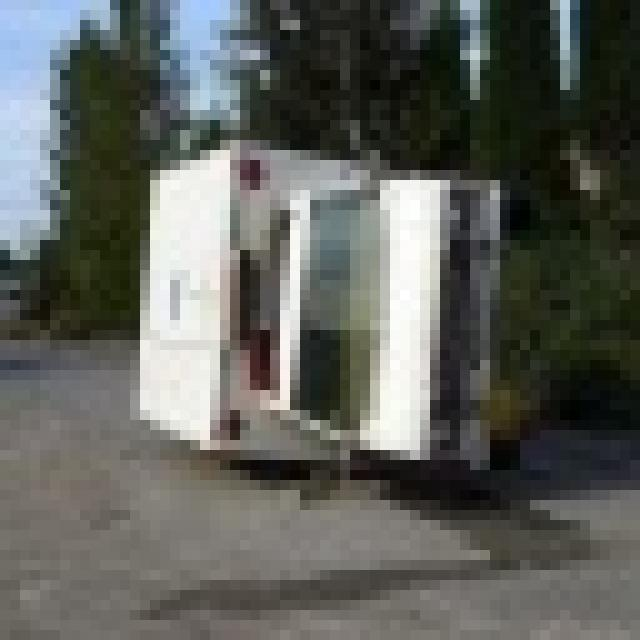Ambulance: (130, 130, 500, 480)
